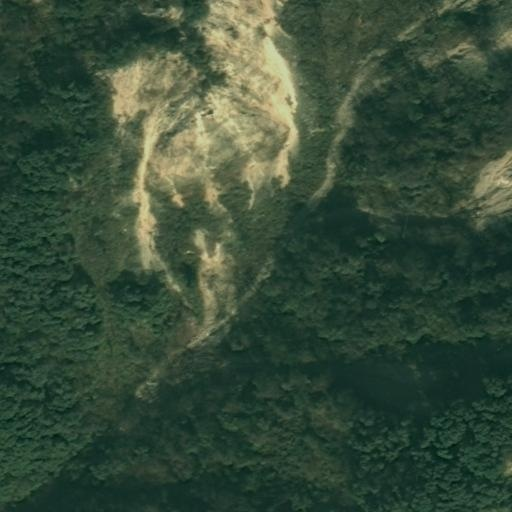landslide: (103, 1, 295, 347)
